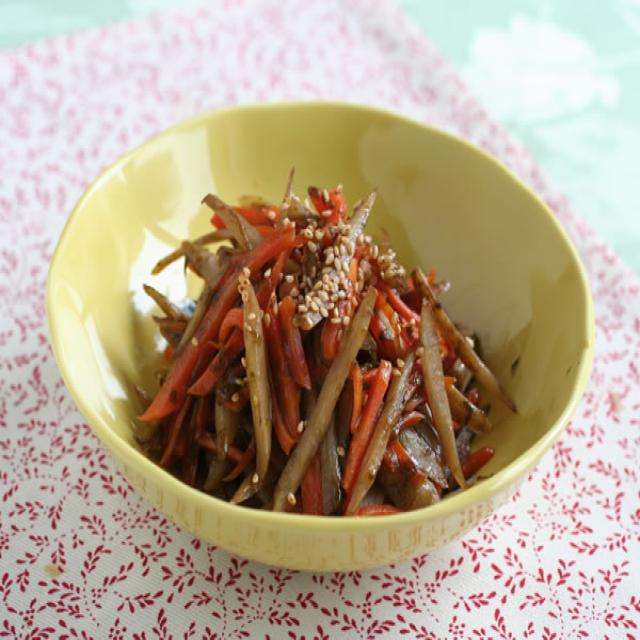蔬菜料理: (34, 85, 605, 593)
